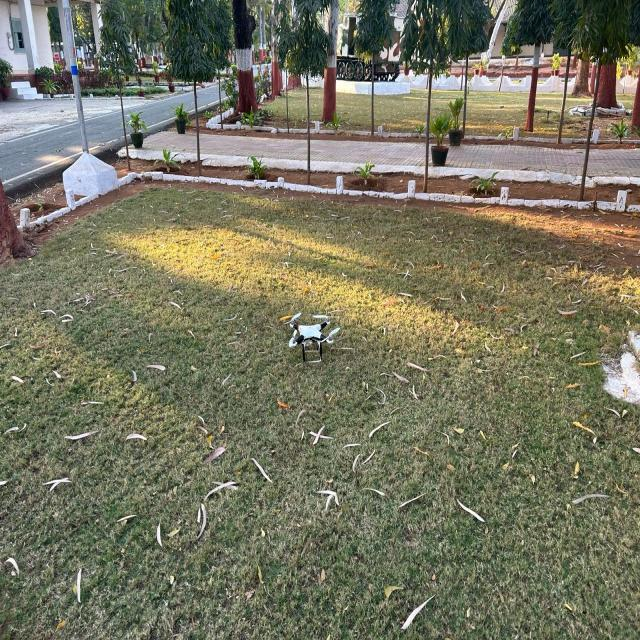drone: (269, 292, 355, 375)
